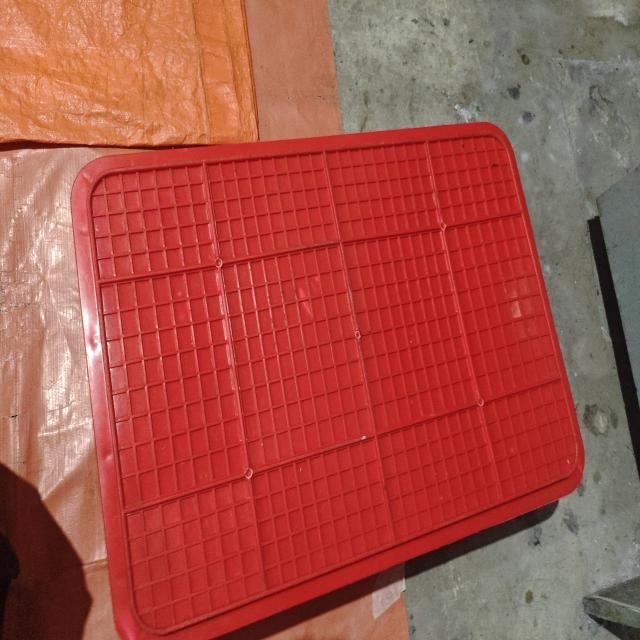red plastic box: (70, 122, 586, 640)
